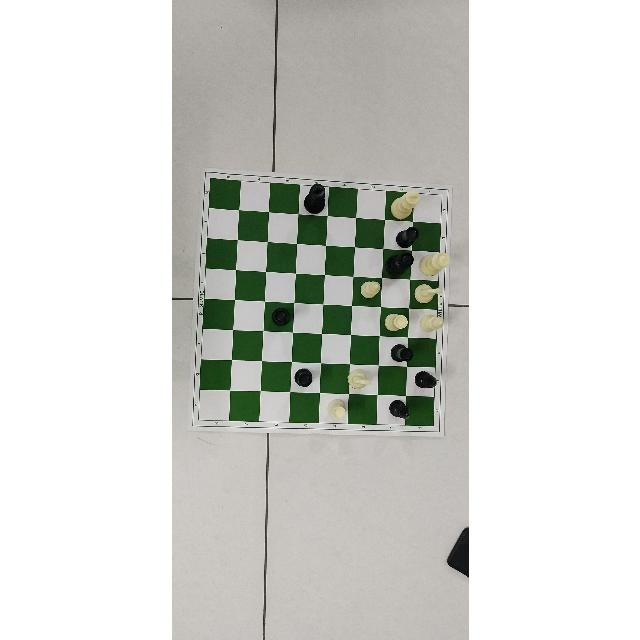black-bishop: (388, 398, 411, 420), (413, 371, 436, 389)
black-king: (303, 183, 325, 215)
black-queen: (383, 252, 413, 278)
black-rook: (395, 226, 419, 248), (387, 343, 412, 363), (270, 308, 292, 326), (294, 367, 312, 387)
white-bishop: (358, 280, 380, 299), (418, 316, 444, 332)
white-king: (390, 190, 419, 218)
white-knight: (413, 285, 441, 305), (346, 370, 371, 390)
white-queen: (418, 252, 450, 276)
white-rook: (383, 313, 407, 333), (326, 397, 346, 420)
